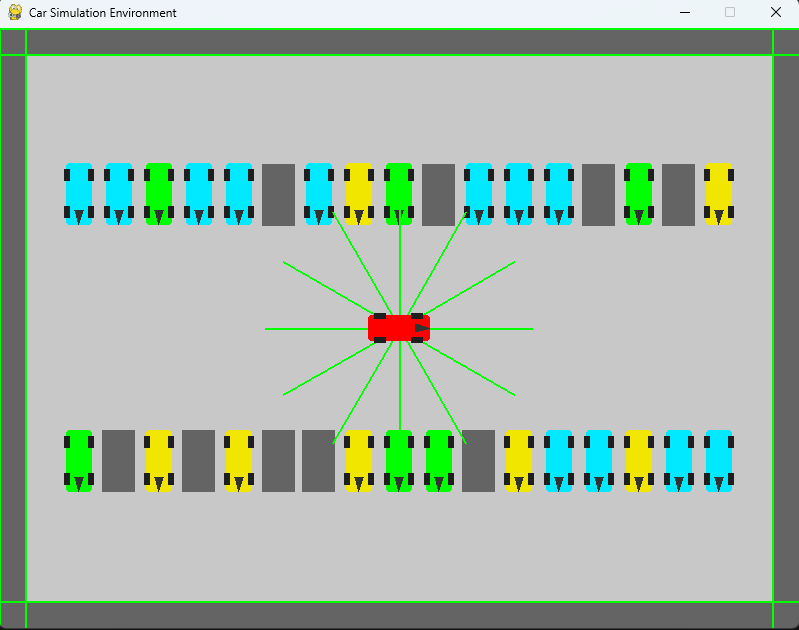ControlledCar: (359, 308, 435, 347)
ParkedCar: (57, 424, 97, 496), (56, 158, 98, 226), (300, 156, 337, 231), (500, 156, 538, 229), (703, 156, 739, 232), (220, 426, 260, 494), (380, 427, 419, 495), (580, 428, 619, 496), (460, 156, 496, 228), (140, 431, 178, 497), (340, 428, 378, 493), (661, 428, 699, 493), (221, 159, 256, 229), (341, 156, 375, 228), (381, 157, 415, 228), (704, 428, 738, 498), (542, 156, 575, 228), (424, 424, 457, 495), (538, 431, 576, 492), (624, 426, 657, 496), (143, 158, 175, 227), (501, 428, 536, 490), (102, 162, 135, 226), (623, 162, 656, 226), (182, 160, 214, 225)
ParkingSpot: (177, 421, 221, 498), (456, 420, 496, 498), (657, 156, 698, 232), (257, 424, 298, 497), (416, 158, 458, 228), (579, 157, 617, 234), (256, 158, 297, 227), (298, 424, 335, 497), (101, 424, 137, 496)
